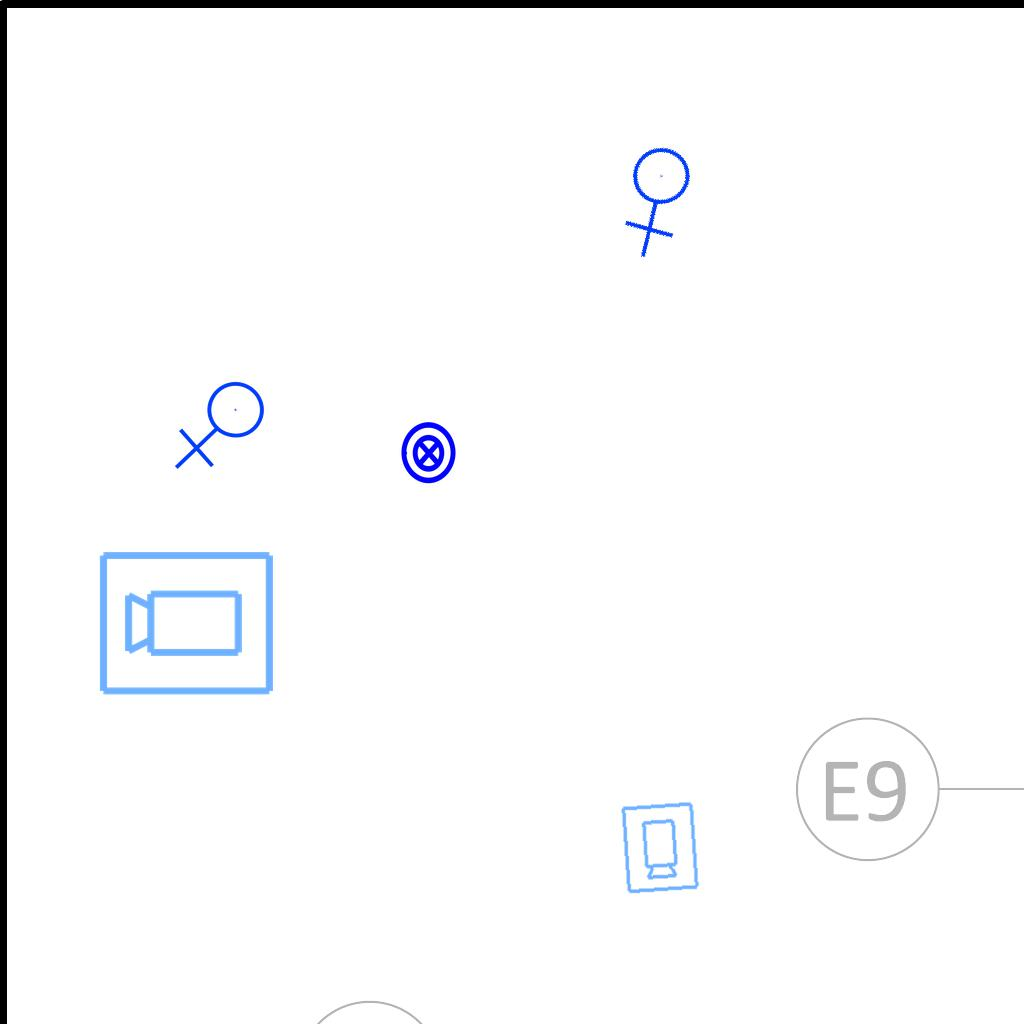Elektroanschluss_allgemein_230V_Geraeteanschlussdose_230V: (593, 130, 728, 264), (174, 380, 273, 474)
KFO_Kamera_mit_Festobjektiv: (96, 545, 278, 699), (617, 799, 702, 896)
Taster_beleuchtet: (396, 420, 462, 486)
